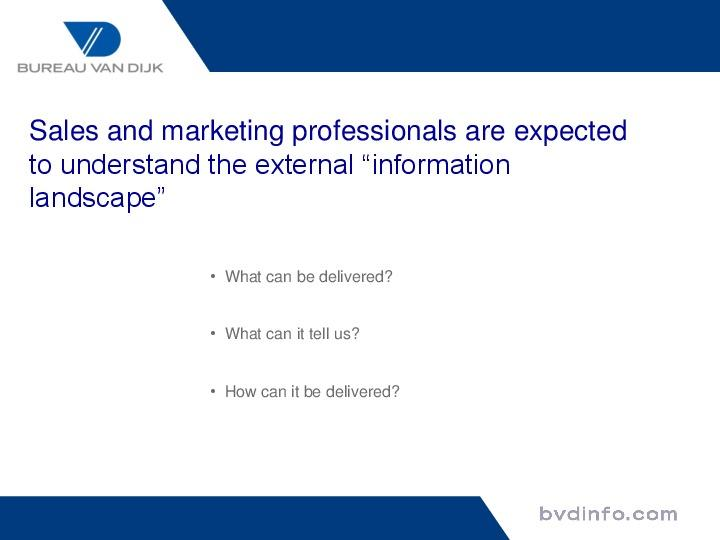paragraph: (195, 246, 427, 420)
subtitle: (531, 493, 700, 530)
title: (21, 100, 645, 218)
